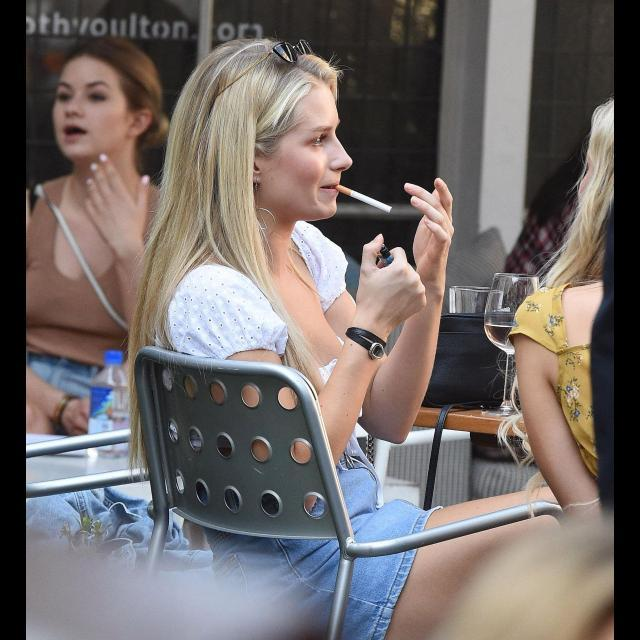rokok: (332, 178, 396, 220)
